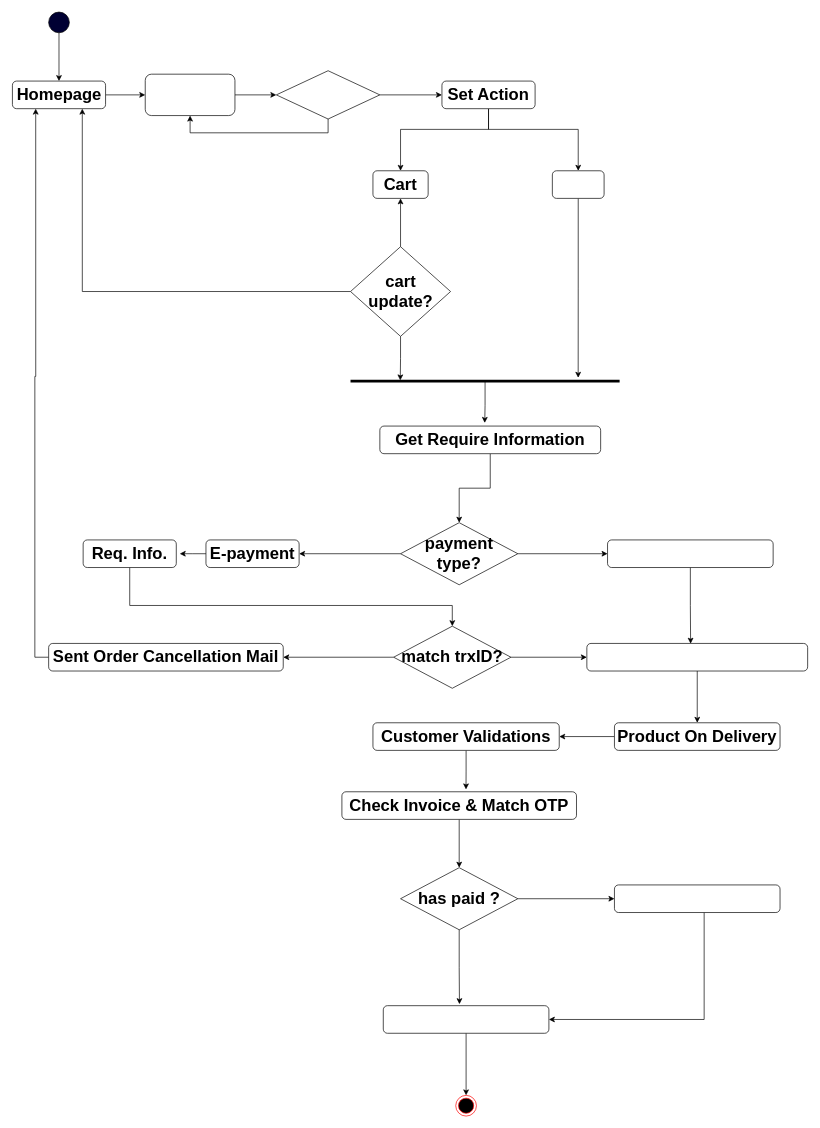
The diagram is 820 pixels wide and 1128 high, and some of its shapes have lost their labels. The shapes that lost their labels are listed below. From the top down, each one's centre as x and y in pixels, then its label:
point (190, 94): Search Product
point (328, 94): found?
point (578, 184): Buy
point (690, 553): Cash On Delivery
point (697, 657): Sent Order Confirmation
point (697, 898): Take Payment
point (466, 1019): Product Handover
